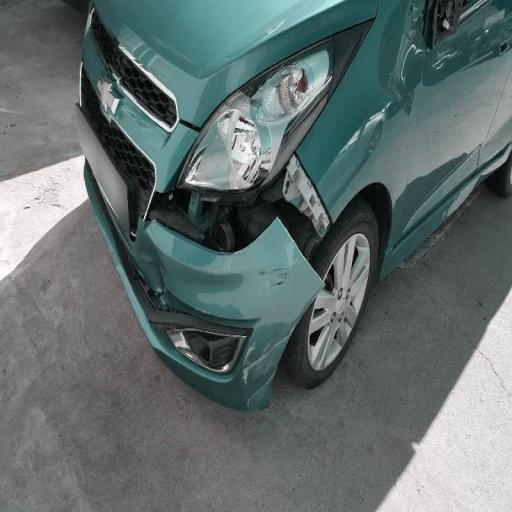broken: (134, 43, 357, 334)
scratch: (232, 319, 282, 421)
